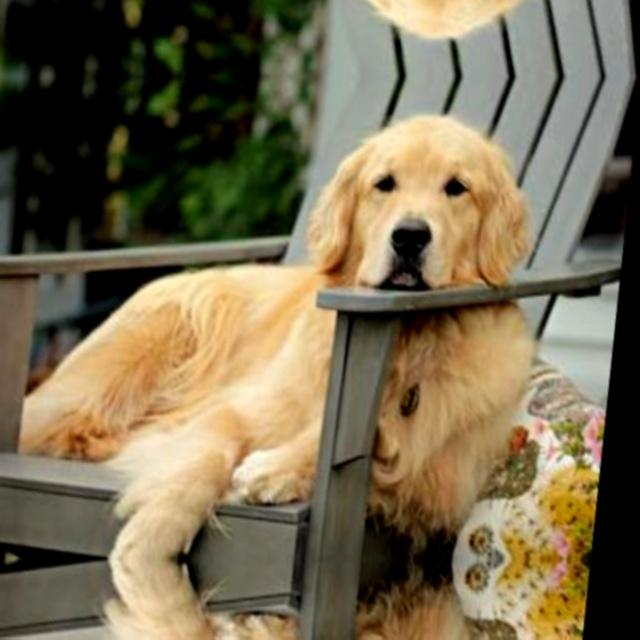dog: (17, 111, 521, 559), (4, 560, 474, 640), (71, 0, 538, 42)
